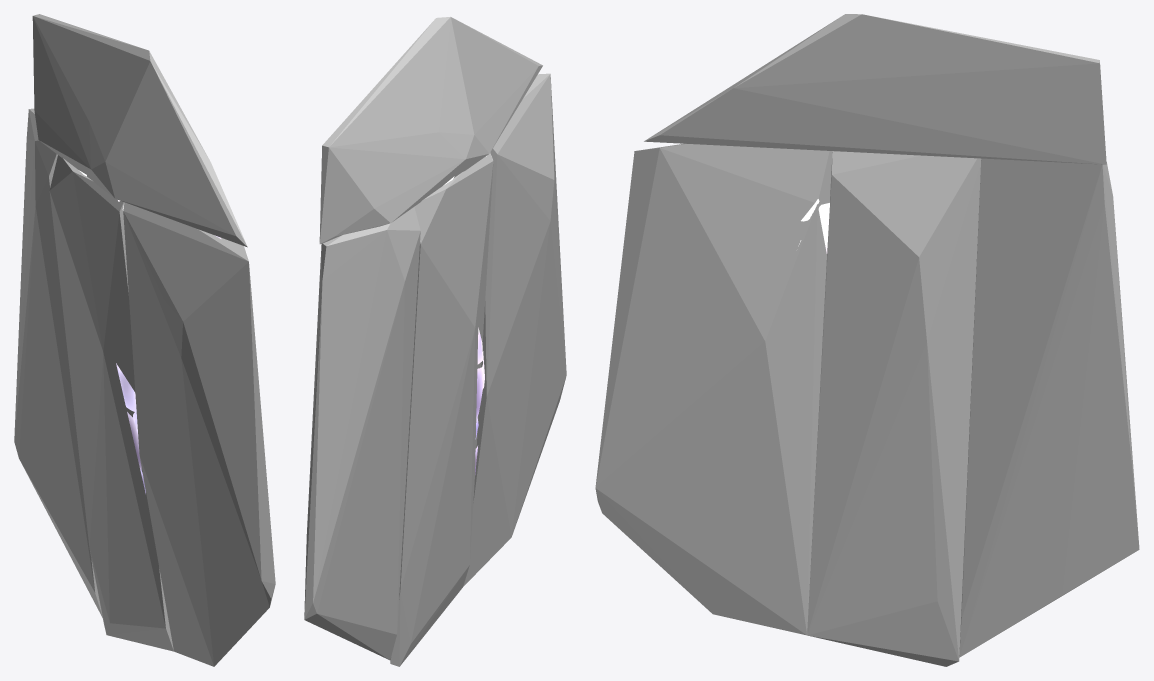
The model's file is SM_Env_Flowers_Clump_02.fbx.
3 renders of one model, left to right at view 1: azimuth 30°, elevation 25°; view 2: azimuth 150°, elevation 25°; view 3: azimuth 270°, elevation 25°, orthographic. The views are drawn at different scales.
Visible parts, largest first — view 1: SM_Env_Flowers_Clump_02_ConvexHulls, SM_Env_Flowers_Clump_02; view 2: SM_Env_Flowers_Clump_02_ConvexHulls, SM_Env_Flowers_Clump_02; view 3: SM_Env_Flowers_Clump_02_ConvexHulls.
Boxes of the visible parts, bbox=[...] form: SM_Env_Flowers_Clump_02_ConvexHulls: bbox=[14, 14, 275, 666]; SM_Env_Flowers_Clump_02: bbox=[79, 170, 221, 493]; SM_Env_Flowers_Clump_02_ConvexHulls: bbox=[304, 17, 566, 666]; SM_Env_Flowers_Clump_02: bbox=[443, 156, 491, 474]; SM_Env_Flowers_Clump_02_ConvexHulls: bbox=[595, 14, 1139, 666].
Bounding box in the file's own units: 7.95 × 77.05 × 102.
2 materials, 1 textured.
